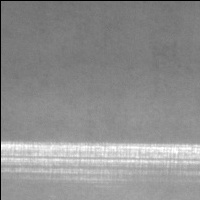scratches: (10, 143, 200, 176)
